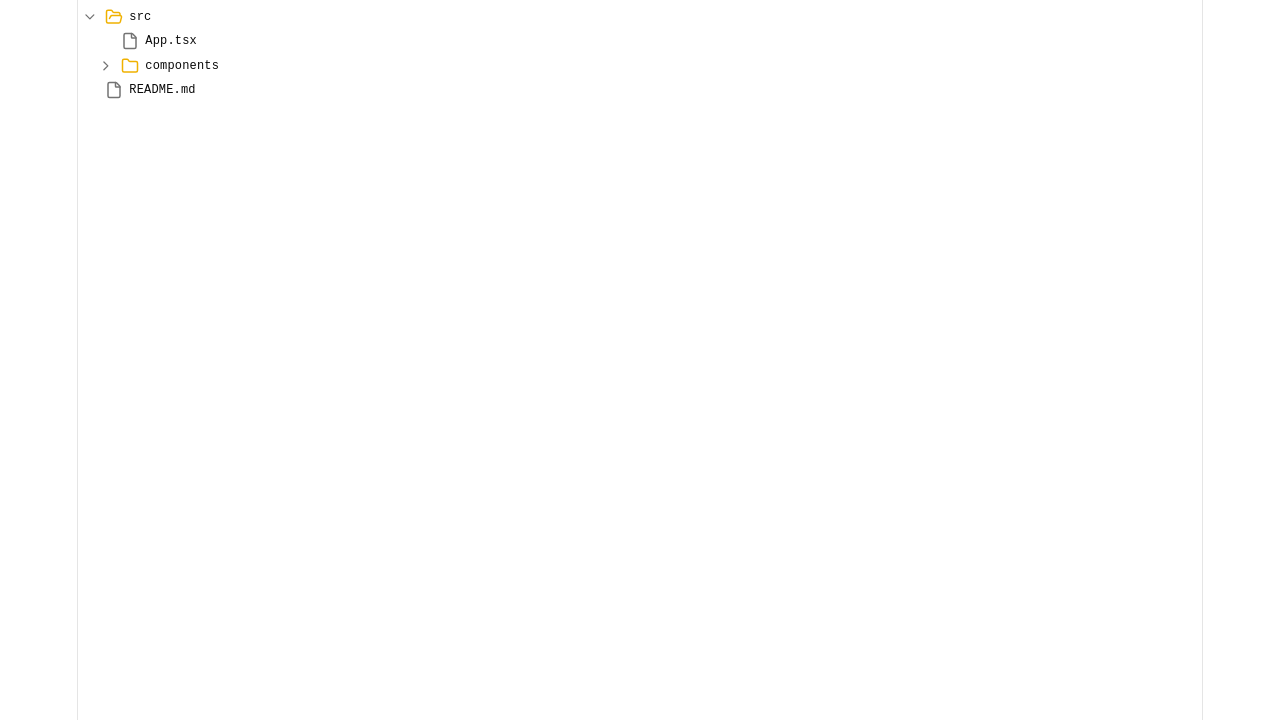
FileTree › collapses folder on second click
Expected: the text "App.tsx" is shown, [145,31,197,51]
Click the text "src": (140, 17) [129,7,152,27]
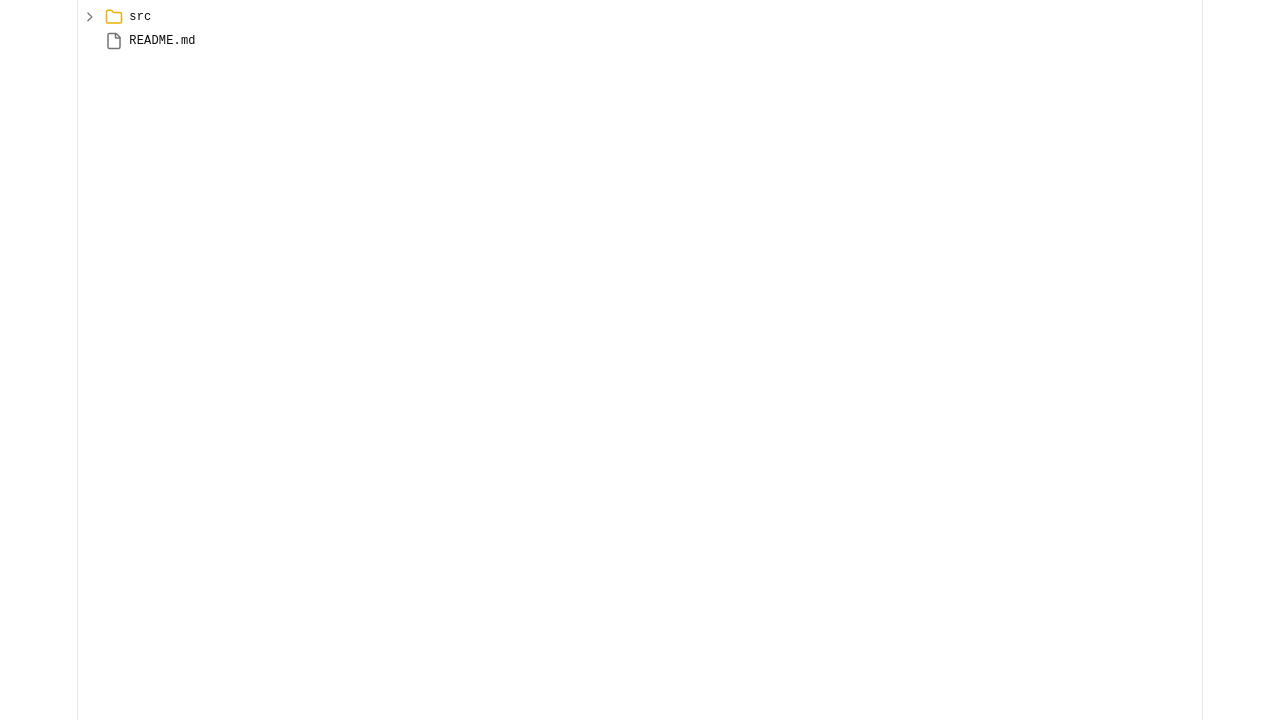
Now the text "App.tsx" is gone
